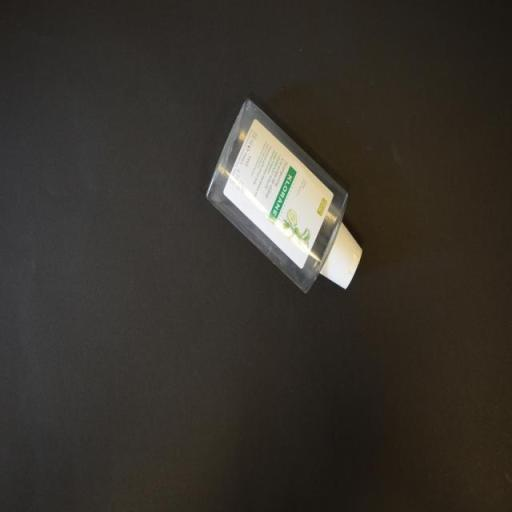plastic: (205, 94, 366, 298)
